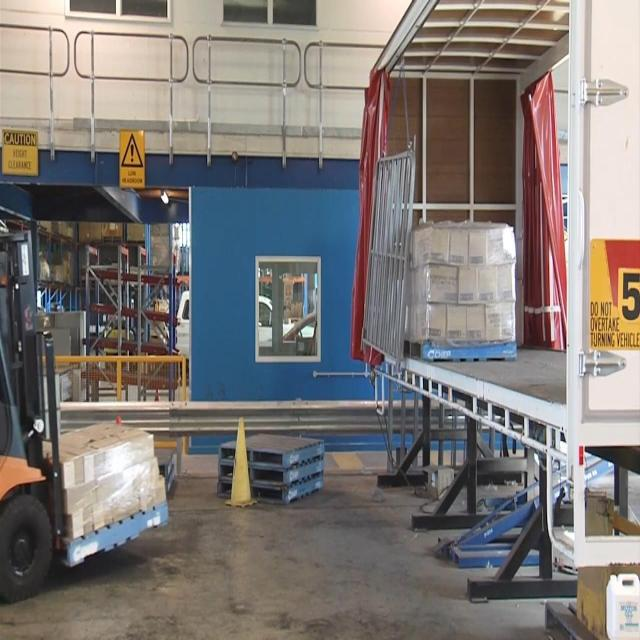box: (46, 401, 175, 550), (407, 206, 528, 351)
forklift: (0, 210, 179, 624)
pallets: (59, 482, 185, 582), (212, 419, 332, 514), (413, 334, 527, 375)
